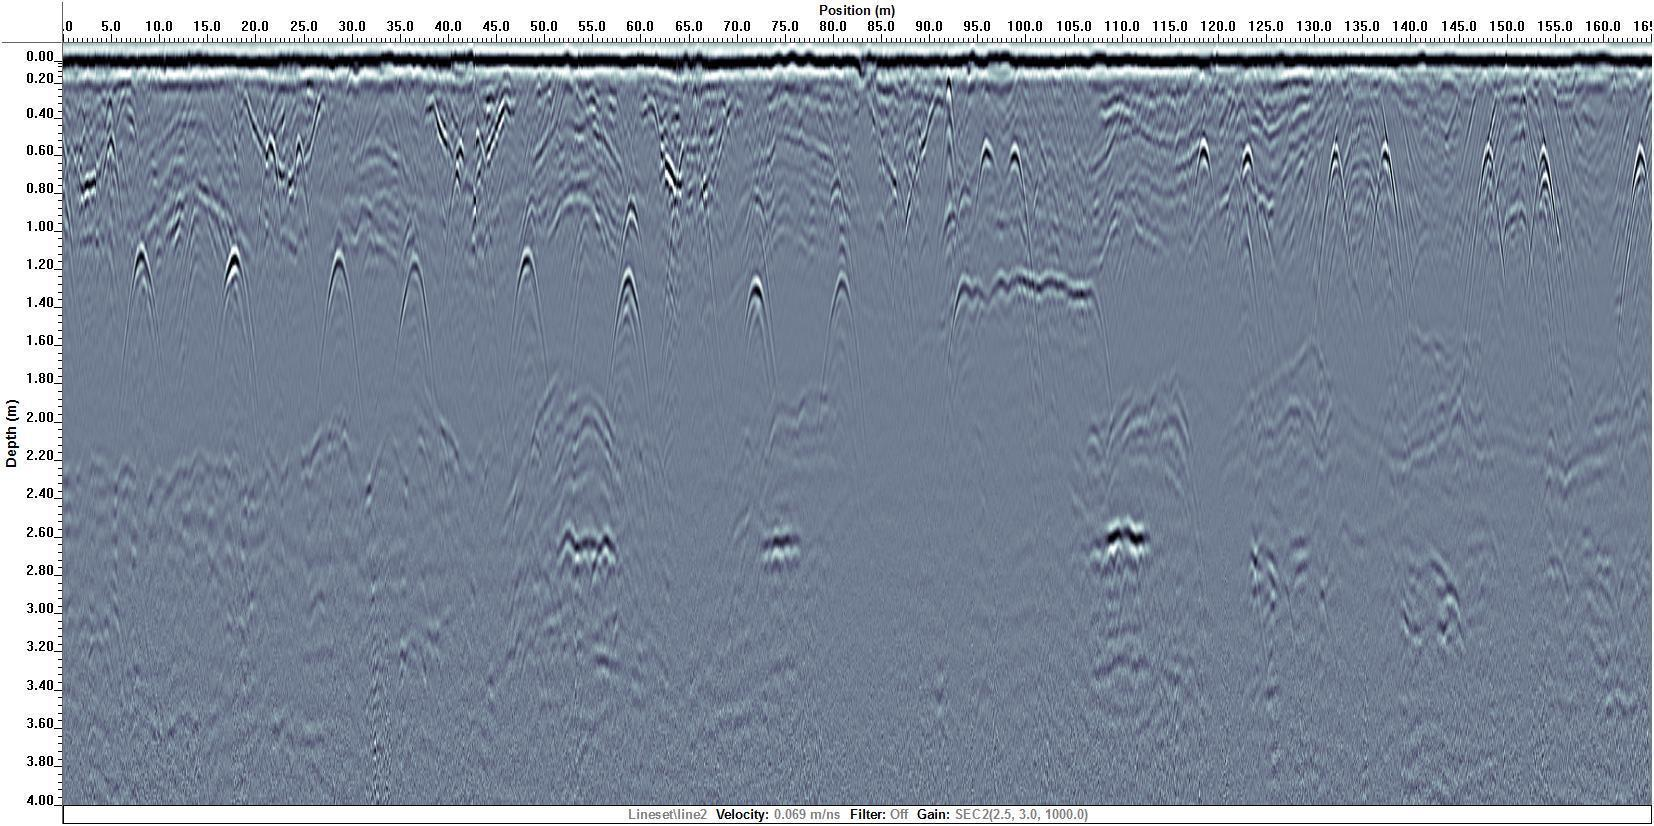hyperbola: (200, 236, 266, 331), (114, 237, 174, 330), (595, 263, 660, 346), (384, 238, 444, 327), (725, 271, 786, 349), (501, 242, 554, 326), (1518, 139, 1573, 215), (312, 235, 361, 319), (1360, 133, 1408, 215), (1460, 134, 1514, 204), (966, 129, 1005, 205), (1000, 127, 1034, 208), (1185, 133, 1222, 205), (1230, 130, 1265, 203)
